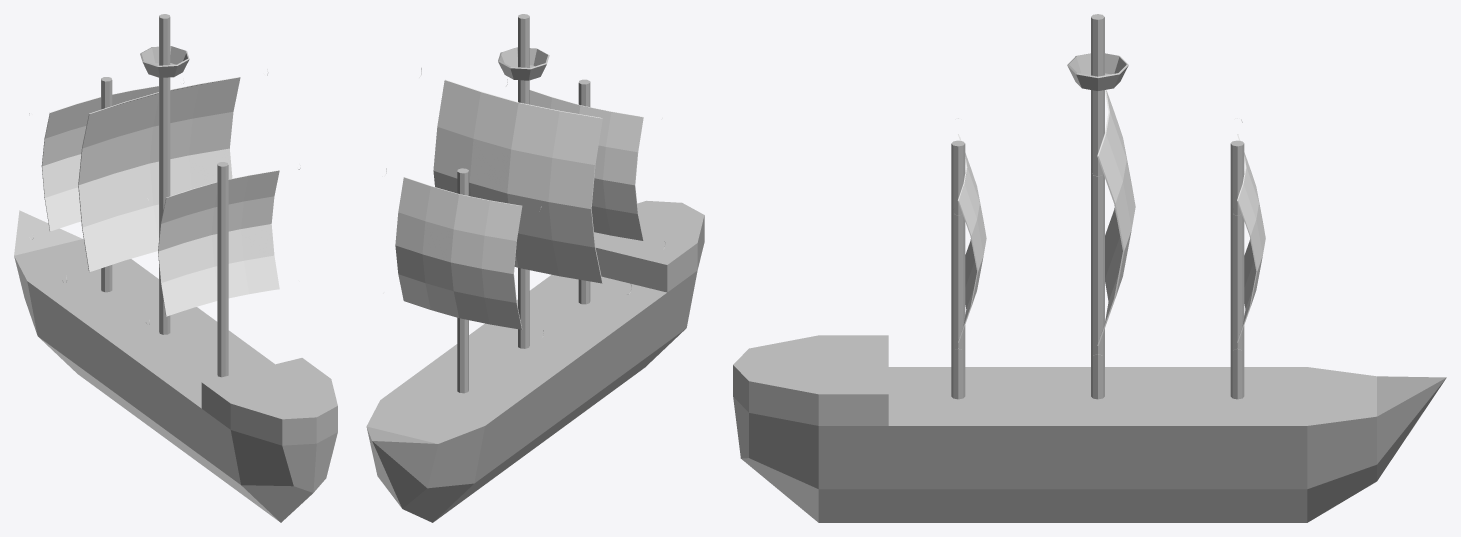
Rendered from ShipModel.fbx.
3 renders of one model, left to right at view 1: azimuth 30°, elevation 25°; view 2: azimuth 150°, elevation 25°; view 3: azimuth 270°, elevation 25°, orthographic. The views are drawn at different scales.
Parts seen in each view (by area): view 1: Body, Sail, Sail_back, Sail_front; view 2: Body, Sail, Sail_front, Sail_back; view 3: Body, Sail, Sail_front, Sail_back.
Boxes of the visible parts, x1,y1,x2,y2 form: Body: (14, 14, 337, 522); Sail: (62, 68, 268, 282); Sail_back: (146, 165, 300, 324); Sail_front: (29, 79, 184, 239); Body: (366, 14, 704, 522); Sail: (419, 68, 631, 294); Sail_front: (383, 168, 543, 337); Sail_back: (506, 79, 665, 249); Body: (733, 14, 1446, 522); Sail: (1092, 90, 1135, 355); Sail_front: (1237, 118, 1265, 349); Sail_back: (954, 118, 986, 348).
Size of the model in its own units: 400 by 800 by 1023.
